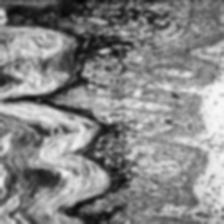Non-Cancerous Skin Condition: (0, 48, 86, 224), (150, 62, 224, 224), (0, 0, 196, 42)
